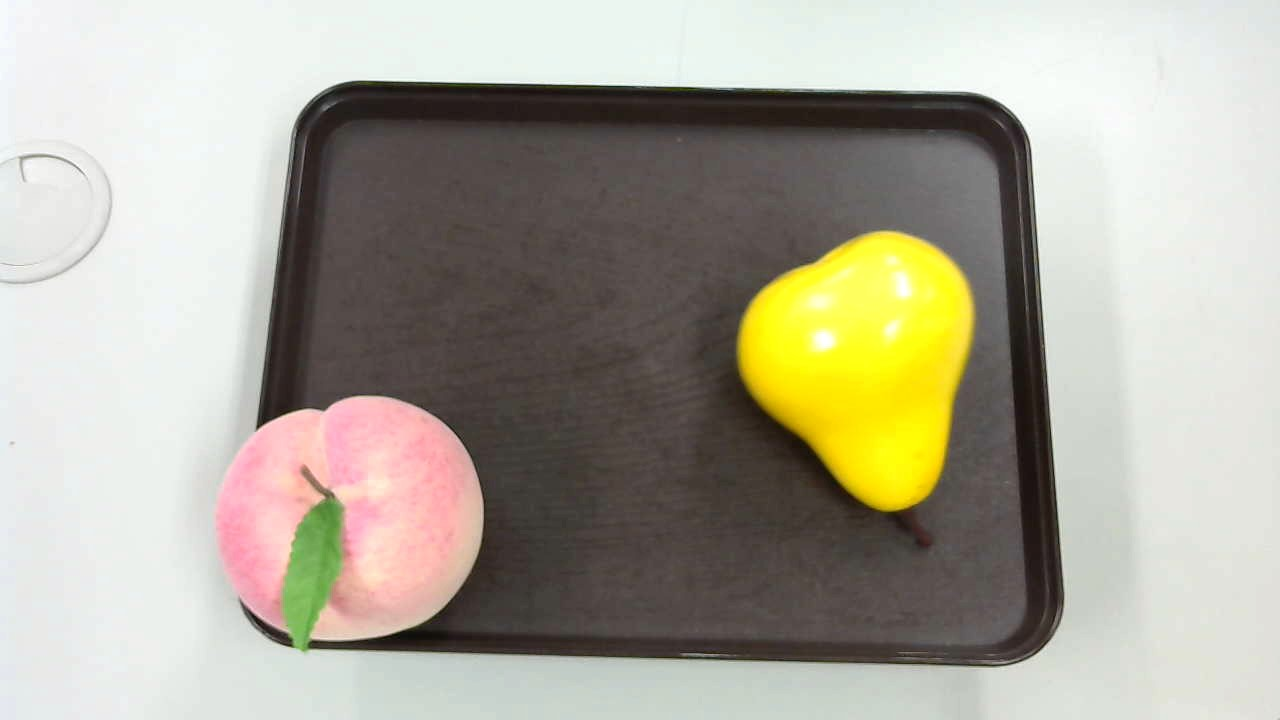peach: (209, 386, 489, 649)
yellow pear: (733, 221, 972, 560)
